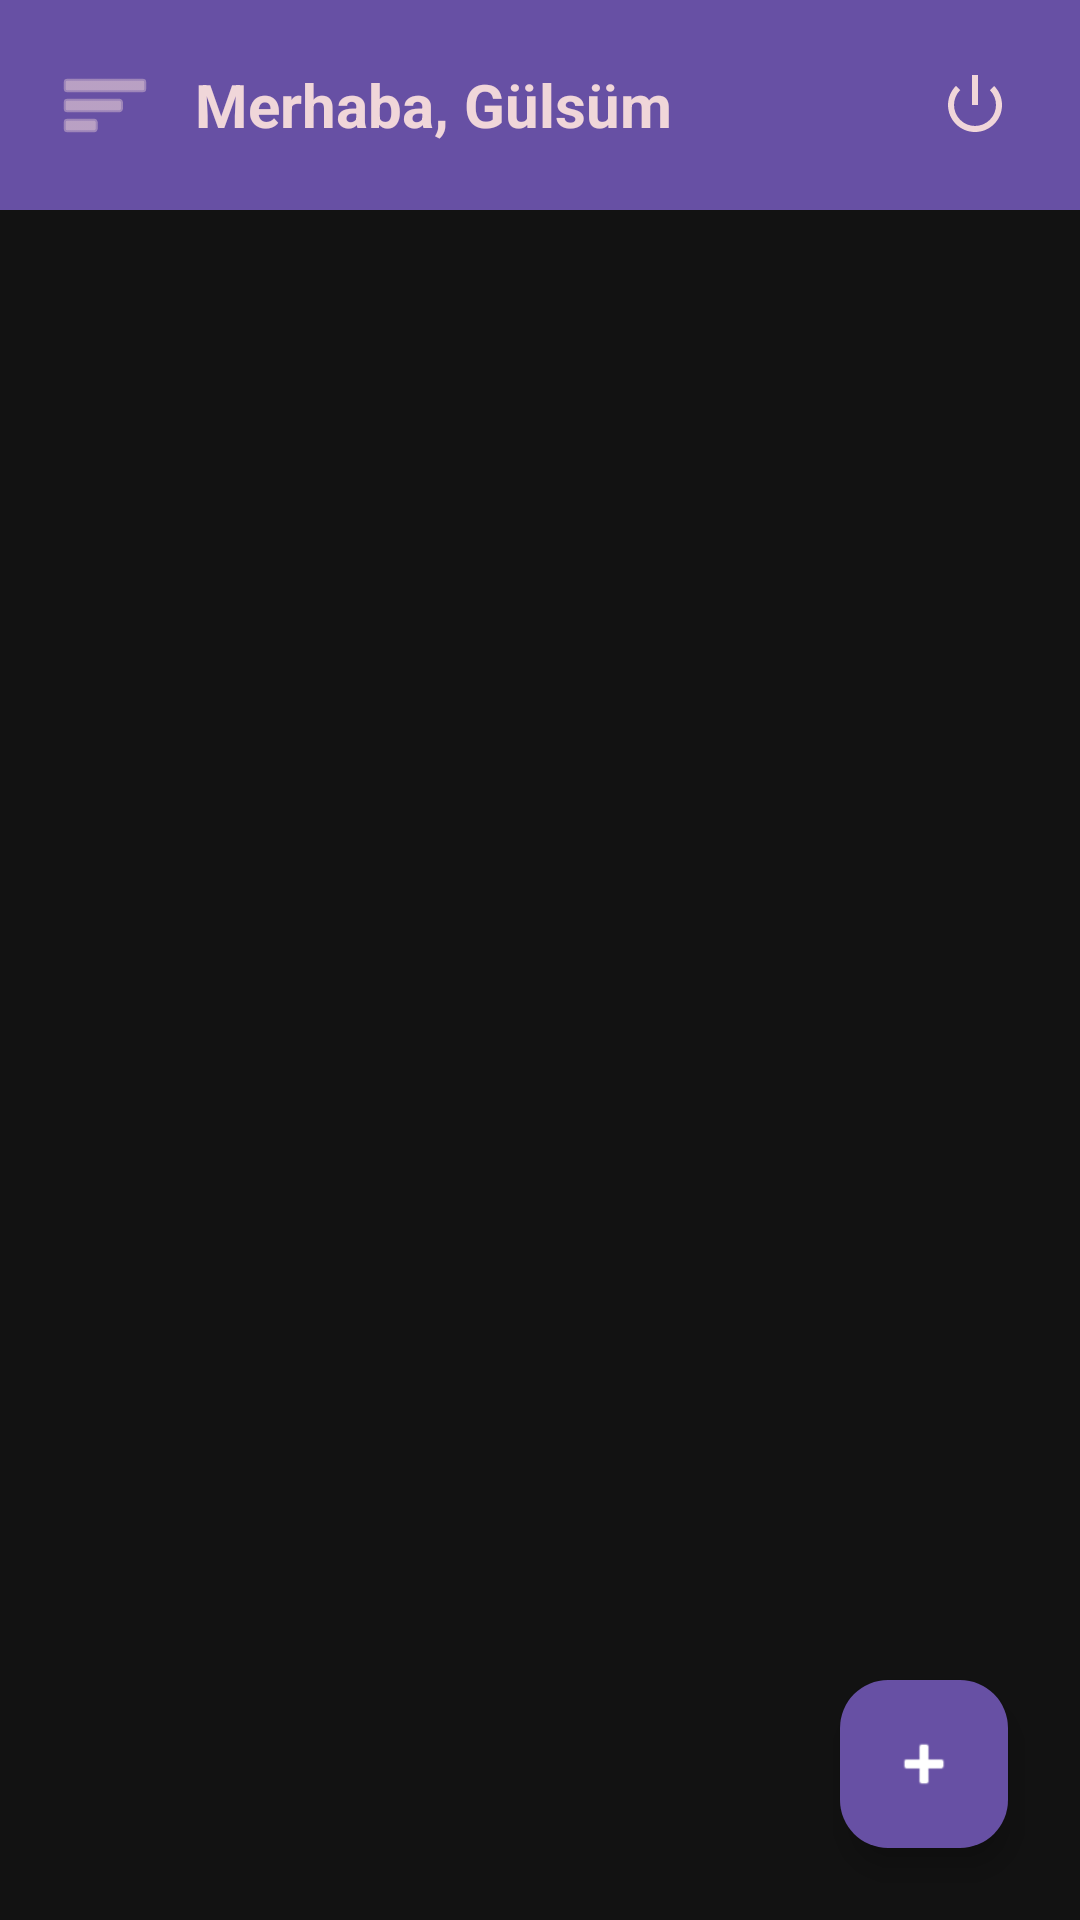

Icons on this 1080×1920 Android screen, each with its box as {"left": x1, "top": y1, "right": x2, "bottom": y2}:
add: {"left": 840, "top": 1680, "right": 1008, "bottom": 1848}
lock power off: {"left": 948, "top": 75, "right": 1002, "bottom": 132}
sort by size: {"left": 64, "top": 79, "right": 146, "bottom": 132}
